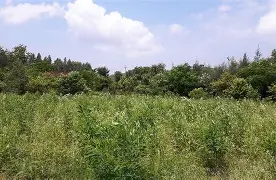crops: (0, 90, 271, 177), (1, 40, 272, 100), (78, 130, 128, 177), (0, 92, 45, 143), (156, 95, 219, 131), (154, 144, 214, 179), (214, 95, 274, 126), (221, 148, 274, 179), (72, 101, 107, 139), (116, 105, 154, 139), (59, 68, 105, 95), (7, 153, 49, 178), (28, 71, 59, 94), (241, 82, 260, 100), (133, 80, 153, 96), (188, 86, 207, 99), (264, 81, 276, 100), (0, 77, 12, 93), (83, 148, 99, 159), (13, 169, 25, 178)
